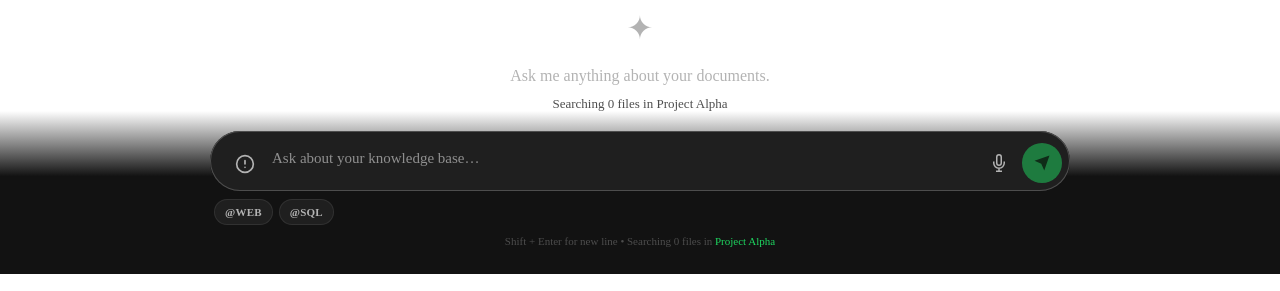
Test: ChatView — tag shortcut buttons › prepends the tag in front of existing text
This screenshot has width=1280, height=291.
Step 1. Type "refund policy" into the text box with placeholder "Ask about your knowledge base…" → (623, 160), box [272, 138, 974, 182]
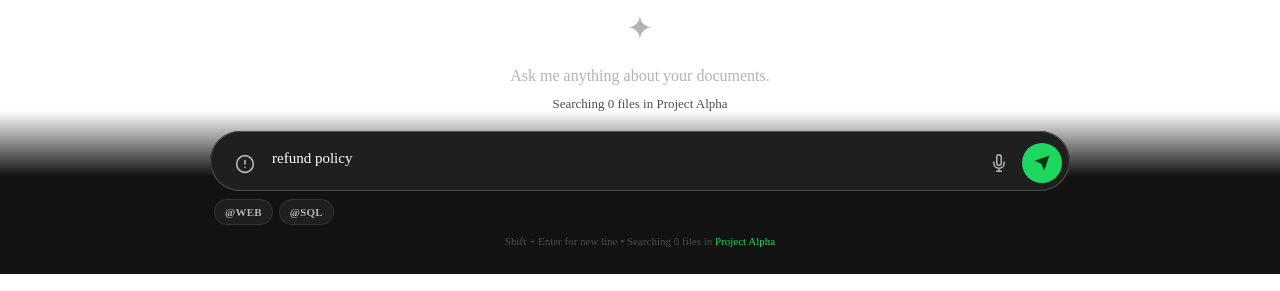
Step 2. Click the button "@SQL" → click(306, 212), box [279, 198, 334, 225]
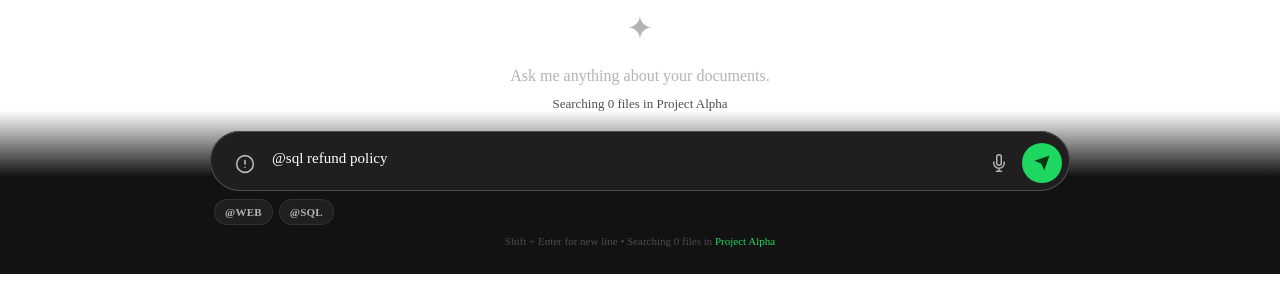
Check: the text box with placeholder "Ask about your knowledge base…" holds "@sql refund policy", box [272, 138, 974, 182]
